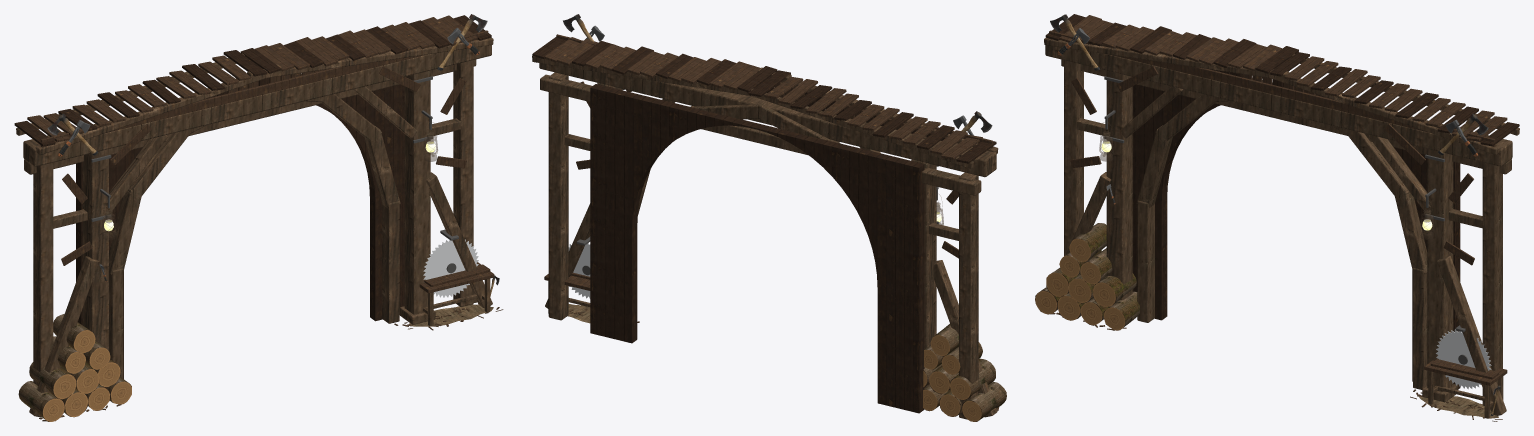
Rendered from fachada_07.glb.
3 renders of one model, left to right at view 1: azimuth 30°, elevation 25°; view 2: azimuth 150°, elevation 25°; view 3: azimuth 330°, elevation 25°, orthographic. The views are drawn at different scales.
Parts seen in each view (by area): view 1: F07_madeira, F07_tabua, F07_tabua_esc, F07_casca, F07_aco, F07_wooden_axe, F07_serragem, F07_LUZ_chama_quente, F07_ferro, F07_hatchet; view 2: F07_tabua_esc, F07_madeira, F07_tabua, F07_casca, F07_wooden_axe, F07_aco; view 3: F07_madeira, F07_tabua, F07_tabua_esc, F07_casca, F07_aco, F07_wooden_axe, F07_serragem, F07_LUZ_chama_quente, F07_hatchet, F07_ferro.
Boxes of the visible parts, x1,y1,x2,y2 form: F07_madeira: [16, 37, 493, 417]; F07_tabua: [27, 15, 503, 421]; F07_tabua_esc: [14, 15, 491, 378]; F07_casca: [18, 314, 131, 421]; F07_aco: [423, 239, 478, 297]; F07_wooden_axe: [47, 14, 499, 296]; F07_serragem: [408, 304, 493, 326]; F07_LUZ_chama_quente: [101, 122, 437, 239]; F07_ferro: [91, 76, 458, 273]; F07_hatchet: [58, 28, 479, 281]; F07_tabua_esc: [532, 37, 996, 413]; F07_madeira: [532, 56, 998, 419]; F07_tabua: [544, 34, 999, 410]; F07_casca: [923, 324, 1006, 421]; F07_wooden_axe: [563, 14, 992, 132]; F07_aco: [568, 243, 590, 298]; F07_madeira: [1044, 37, 1519, 418]; F07_tabua: [1049, 15, 1507, 421]; F07_tabua_esc: [1045, 14, 1519, 389]; F07_casca: [1035, 223, 1139, 330]; F07_aco: [1436, 329, 1491, 389]; F07_wooden_axe: [1050, 14, 1500, 415]; F07_serragem: [1418, 395, 1498, 418]; F07_LUZ_chama_quente: [1099, 122, 1434, 239]; F07_hatchet: [1057, 28, 1478, 204]; F07_ferro: [1104, 76, 1467, 364].
Bounding box in the file's own units: 12.25 × 7.65 × 1.69.
Materials: 12 (9 with a texture image).
